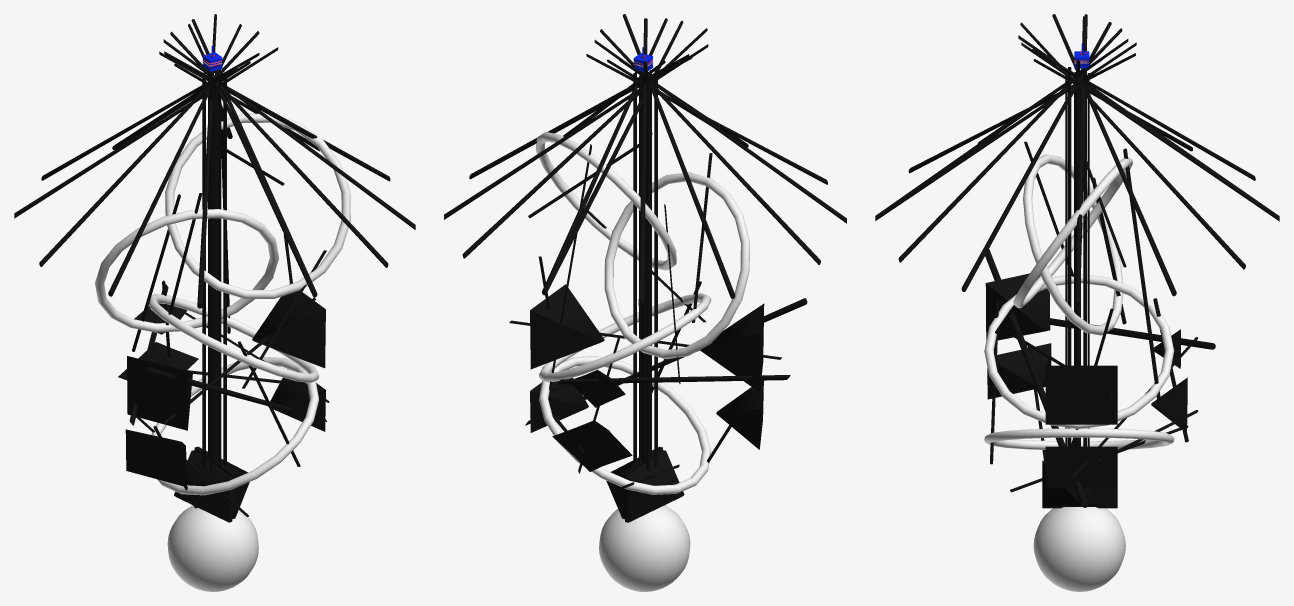
Rendered from Final-Noctique-01.obj.
The picture shows the model from 3 angles, left to right: view 1: azimuth 30°, elevation 25°; view 2: azimuth 150°, elevation 25°; view 3: azimuth 270°, elevation 25°; orthographic projection.
Parts seen in each view (by area): view 1: group9 group8 pCylinder38, group9 pSphere1 group8, group9 group8 pTorus4, group9 pTorus3, group9 pCube10, group9 pCube19, group9 pTorus2, pTorus1 group9, group9 pCube9, group9 pCylinder1, group9 pCube12, group9 pCube2 (+10 smaller); view 2: group9 group8 pCylinder38, group9 pSphere1 group8, group9 pTorus3, group9 pCube19, pTorus1 group9, group9 group8 pTorus4, group9 pCube10, group9 pTorus2, group9 pCube13, group9 pCube12, group9 pCube9, group9 pCube2 (+13 smaller); view 3: group9 group8 pCylinder38, group9 pSphere1 group8, group9 pCube19, group9 pTorus2, group9 pCube2, group9 pTorus3, pTorus1 group9, group9 group8 pTorus4, group9 pCube10, group9 pCube9, group9 pCube11, group9 pCylinder14 (+9 smaller).
Part boxes in pixels (bbox=[...]): group9 group8 pCylinder38: bbox=[14, 14, 415, 308]; group9 pSphere1 group8: bbox=[167, 505, 258, 591]; group9 group8 pTorus4: bbox=[165, 113, 350, 298]; group9 pTorus3: bbox=[95, 209, 278, 332]; group9 pCube10: bbox=[127, 356, 192, 430]; group9 pCube19: bbox=[252, 284, 325, 368]; group9 pTorus2: bbox=[149, 294, 319, 382]; pTorus1 group9: bbox=[151, 356, 318, 495]; group9 pCube9: bbox=[125, 429, 186, 486]; group9 pCylinder1: bbox=[212, 75, 218, 465]; group9 pCube12: bbox=[174, 450, 232, 522]; group9 pCube2: bbox=[268, 369, 325, 431]; group9 group8 pCylinder38: bbox=[444, 14, 846, 307]; group9 pSphere1 group8: bbox=[599, 505, 690, 591]; group9 pTorus3: bbox=[604, 172, 749, 359]; group9 pCube19: bbox=[530, 284, 604, 369]; pTorus1 group9: bbox=[539, 356, 711, 494]; group9 group8 pTorus4: bbox=[536, 132, 676, 270]; group9 pCube10: bbox=[700, 303, 764, 392]; group9 pTorus2: bbox=[539, 293, 711, 382]; group9 pCube13: bbox=[552, 420, 632, 471]; group9 pCube12: bbox=[625, 450, 684, 522]; group9 pCube9: bbox=[716, 380, 763, 449]; group9 pCube2: bbox=[530, 377, 588, 432]; group9 group8 pCylinder38: bbox=[875, 14, 1279, 306]; group9 pSphere1 group8: bbox=[1033, 507, 1125, 591]; group9 pCube19: bbox=[1045, 365, 1117, 424]; group9 pTorus2: bbox=[984, 274, 1174, 428]; group9 pCube2: bbox=[1045, 446, 1117, 488]; group9 pTorus3: bbox=[1023, 154, 1123, 335]; pTorus1 group9: bbox=[984, 428, 1174, 449]; group9 group8 pTorus4: bbox=[1013, 157, 1132, 308]; group9 pCube10: bbox=[985, 273, 1050, 340]; group9 pCube9: bbox=[987, 343, 1051, 399]; group9 pCube11: bbox=[1042, 460, 1117, 506]; group9 pCylinder14: bbox=[1067, 73, 1071, 446].
Size of the model in its own units: 15.05 by 22.55 by 15.05.
